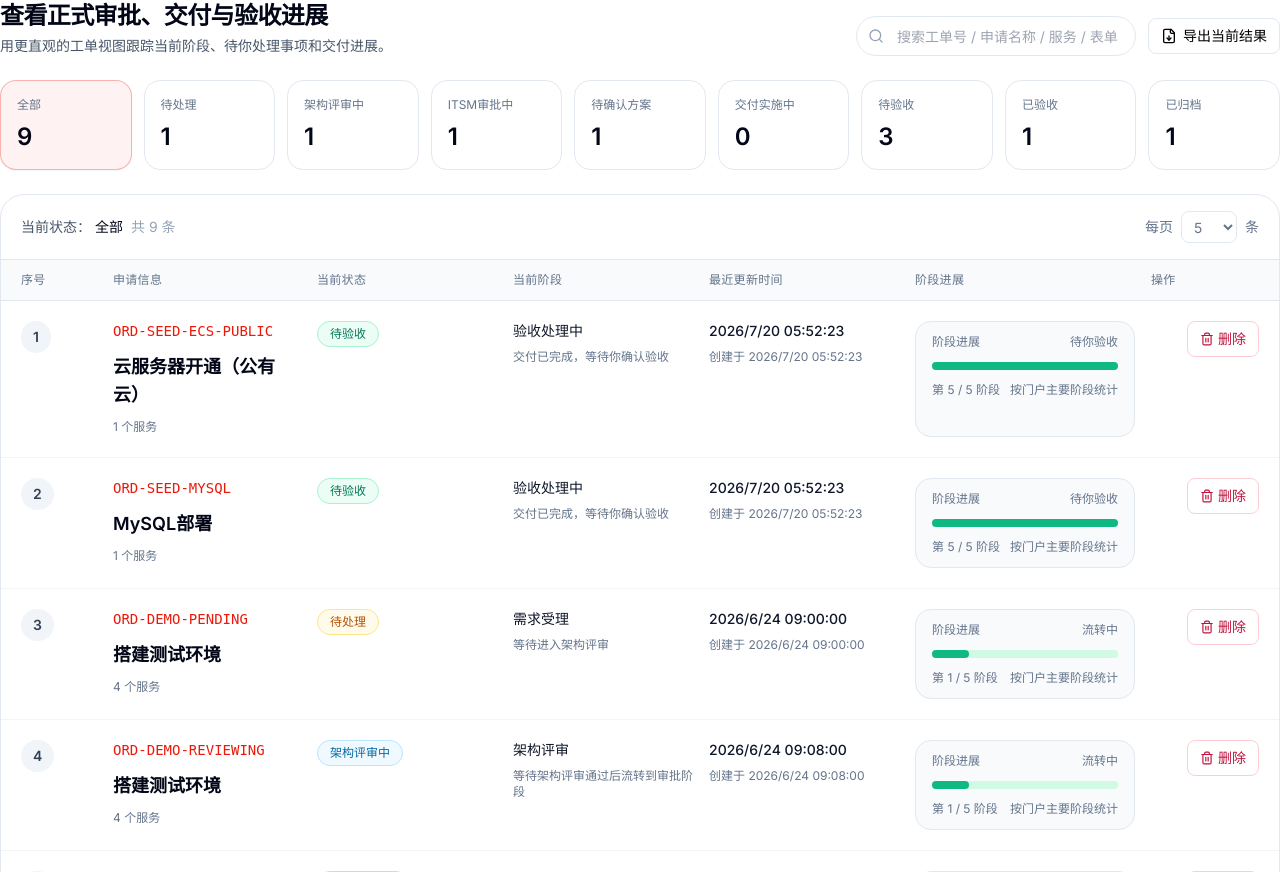
Test case: portal orders page › keeps overview counts available when switching status cards
Click the button "架构评审中 1" at point(353, 125), box [287,80,419,170]
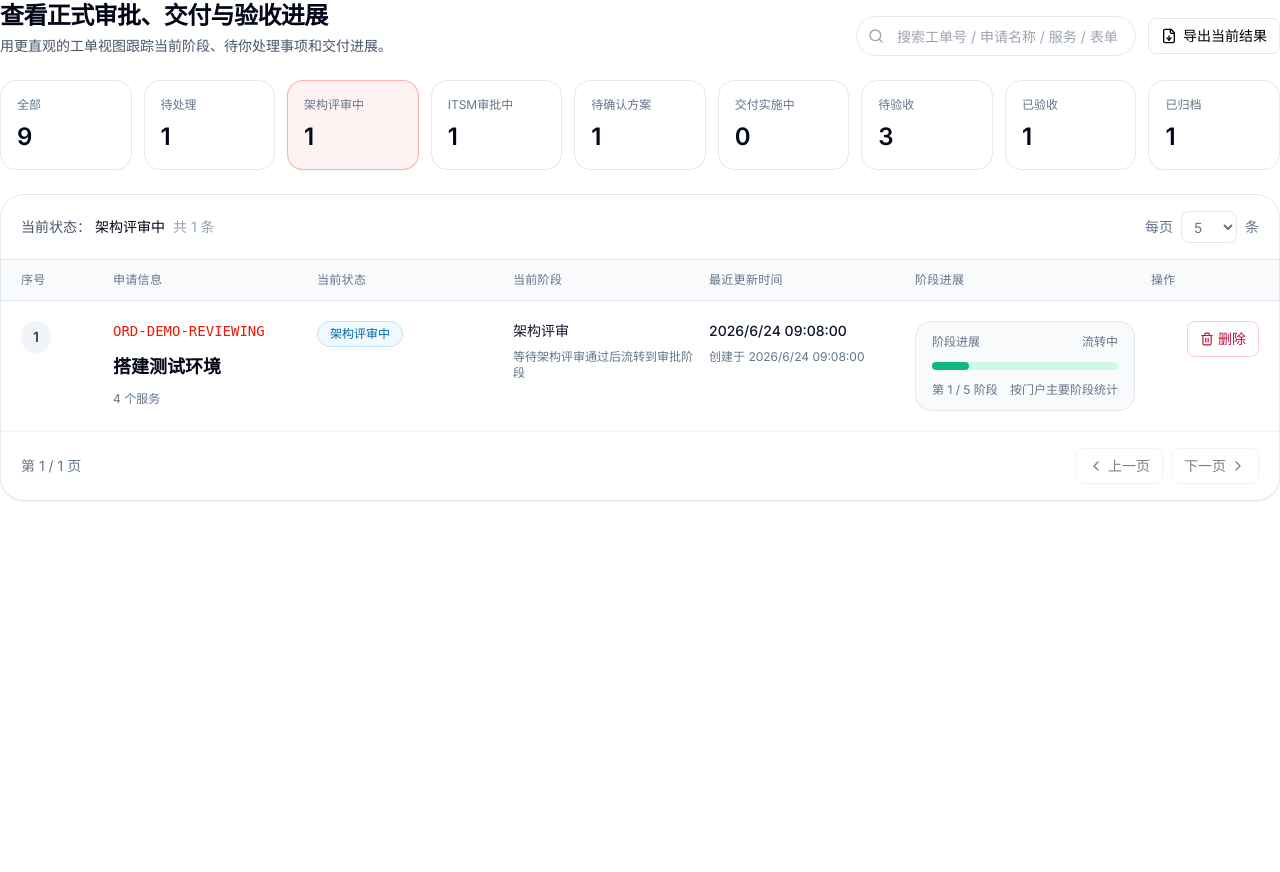
expect the button "已归档 1" is shown: met, box [1148,80,1279,170]
expect the text "共 1 条" is shown: met, box [173,218,215,235]
